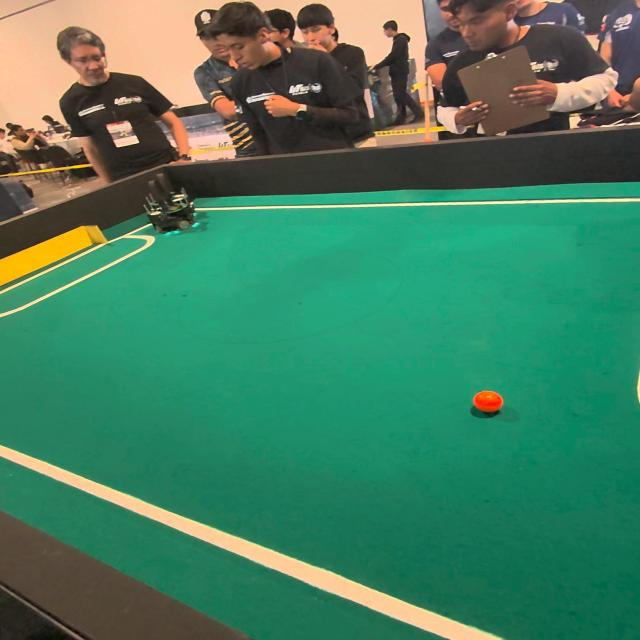Robot: (138, 180, 195, 243), (154, 160, 204, 216)
pelota: (474, 391, 504, 418)
